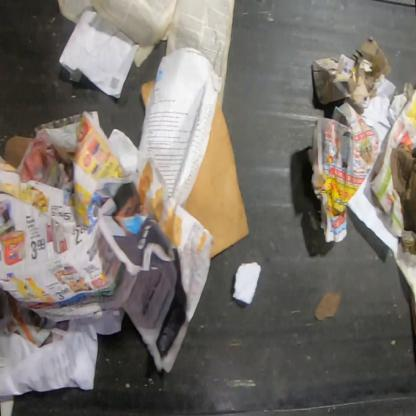cardboard: (185, 96, 250, 258), (390, 147, 416, 235), (3, 135, 36, 169), (140, 80, 156, 110)
